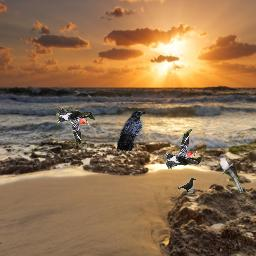Crow: (117, 111, 145, 151), (178, 178, 196, 194)
Cuckoo: (217, 154, 243, 194)
Woodpecker: (56, 107, 95, 147), (164, 129, 203, 169)
